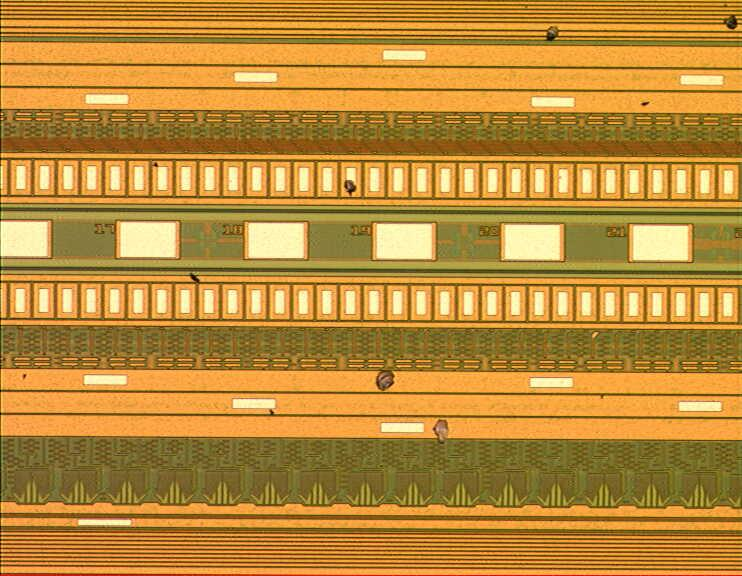PO CONTAMINATION: (17, 1, 742, 447)
